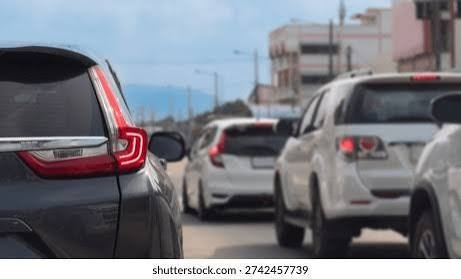car: (7, 44, 171, 265), (274, 71, 461, 252), (183, 120, 288, 219), (185, 119, 287, 220), (196, 119, 286, 183), (144, 130, 194, 226), (148, 132, 187, 186), (148, 130, 187, 162)
